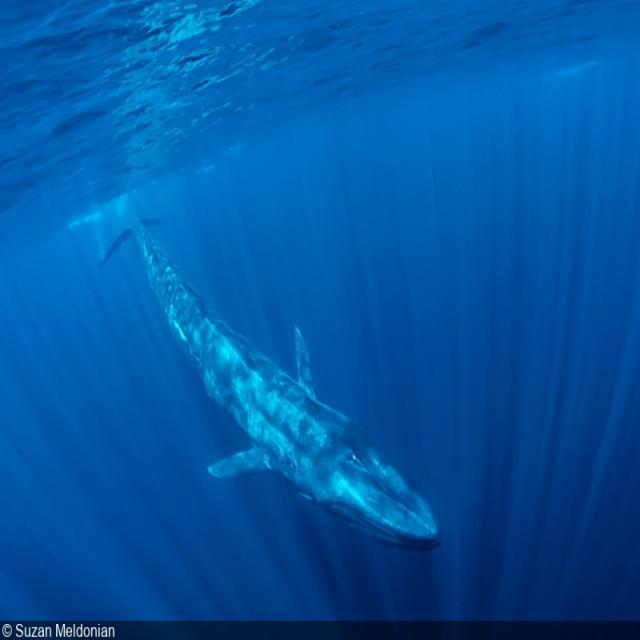blue_whale: (87, 166, 459, 584)
